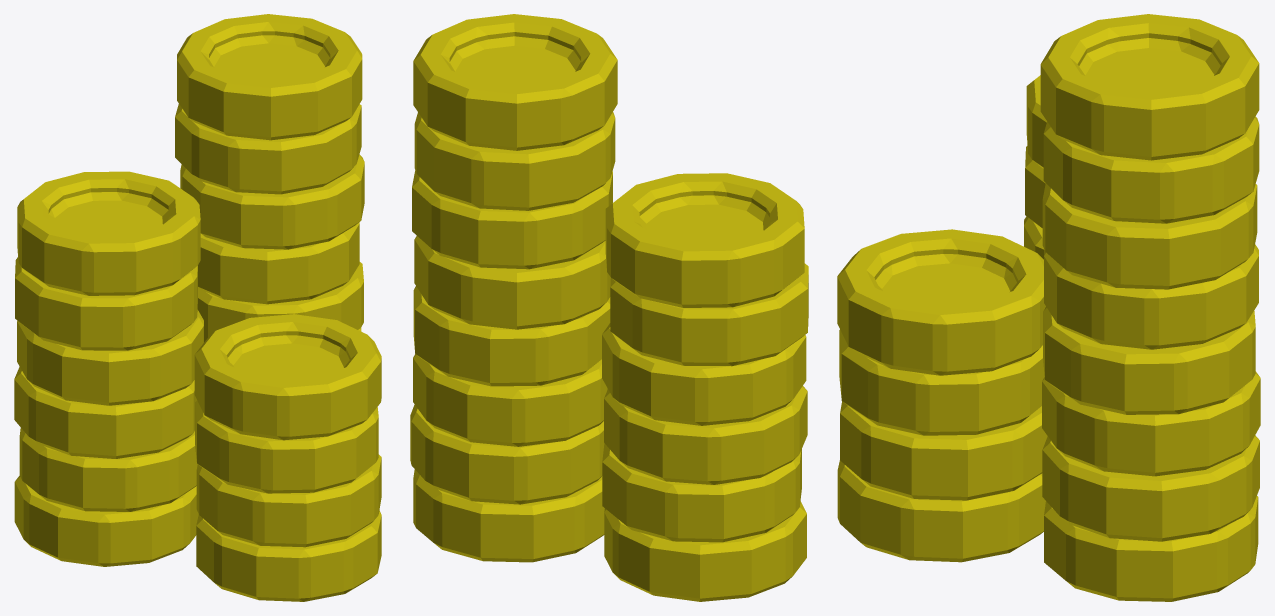
Rendered from coin_stack.glb.
3 views of the same model, side by side, from view 1: azimuth 30°, elevation 25°; view 2: azimuth 150°, elevation 25°; view 3: azimuth 270°, elevation 25° (orthographic). The views are drawn at different scales.
Parts seen in each view (by area): view 1: Cylinder.010; view 2: Cylinder.010; view 3: Cylinder.010.
Boxes of the visible parts, bbox=[...] form: Cylinder.010: bbox=[14, 14, 381, 601]; Cylinder.010: bbox=[410, 14, 808, 601]; Cylinder.010: bbox=[837, 14, 1260, 601].
Bounding box in the file's own units: 0.2387 × 0.2943 × 0.2251.
1 material, 1 textured.
